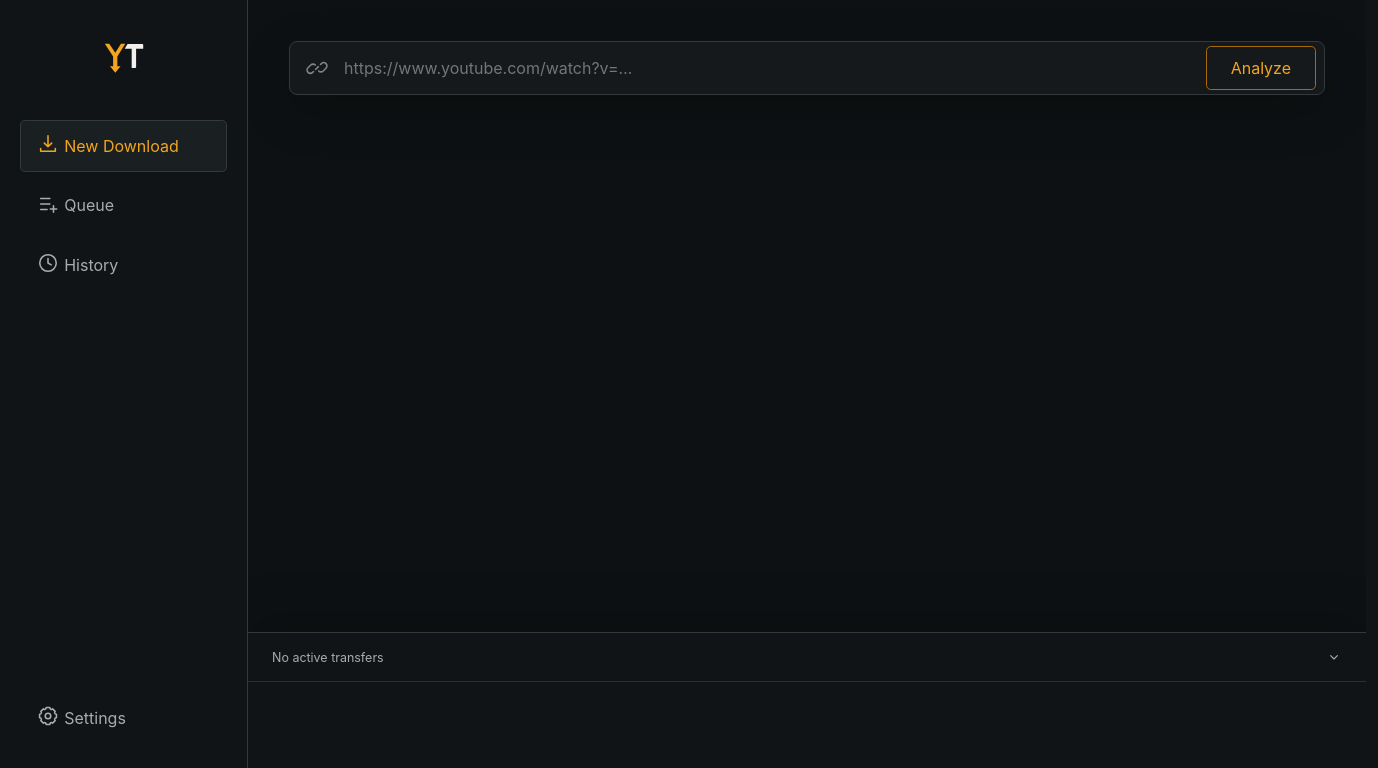
desktop workspace › leaves an in-flight analysis, returns to New Download, and ignores the stale result
The width and height of the screenshot is (1378, 768).
Type "https://www.youtube.com/watch?v=dQw4w9WgXcQ" into the field named "Video URL" at (767, 68), box [328,42,1206,94]
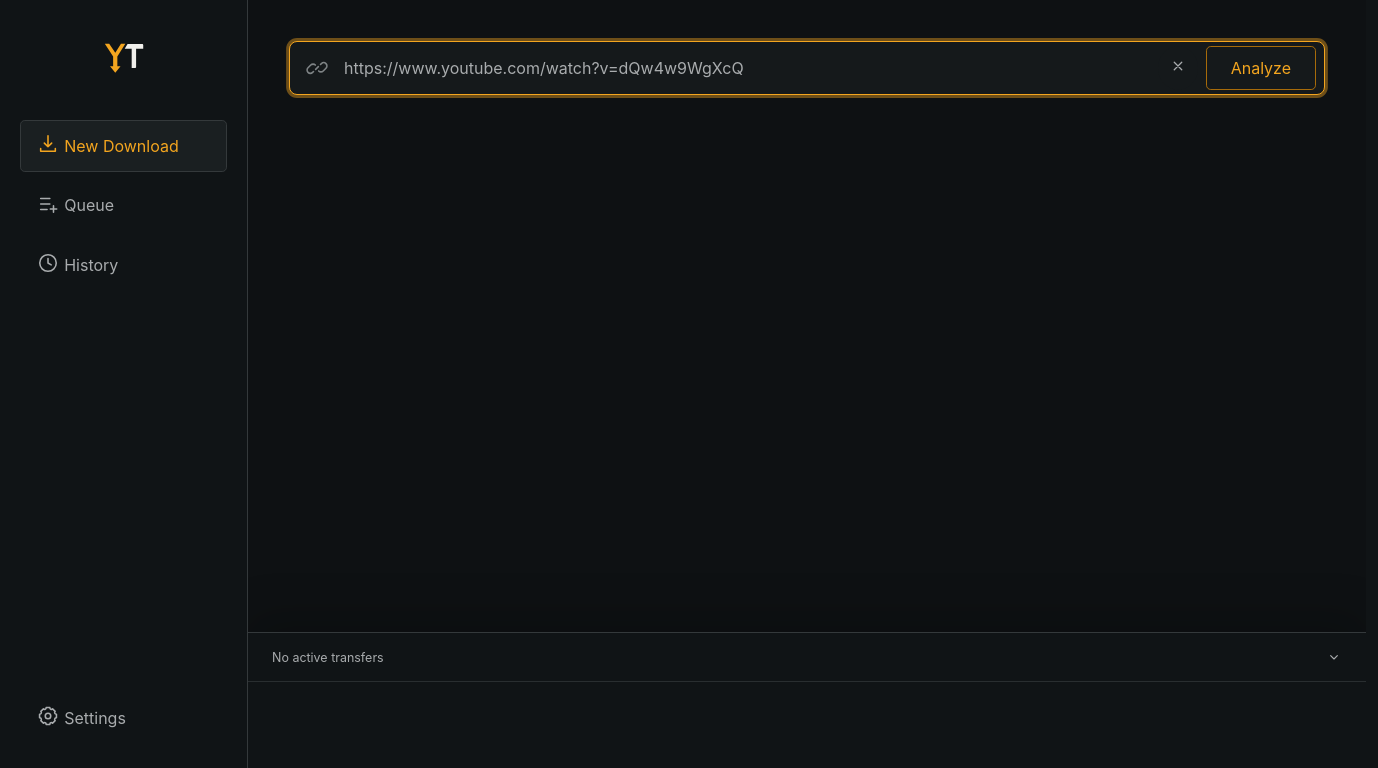
Click the button "Analyze" at (1261, 68), box [1206,46,1316,90]
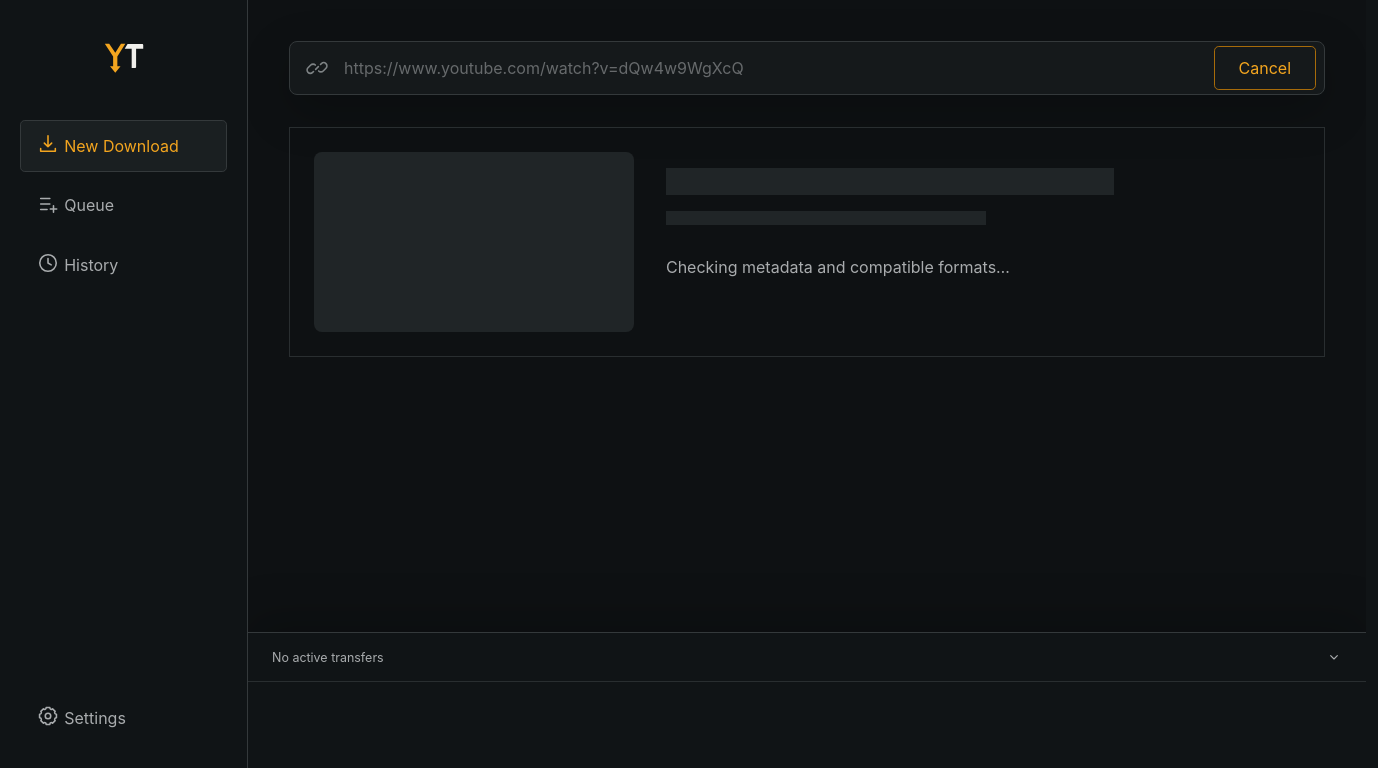
expect the button "Cancel" is shown: met, box [1214,46,1316,90]
Click the button "Queue" at (124, 205), box [20,180,227,231]
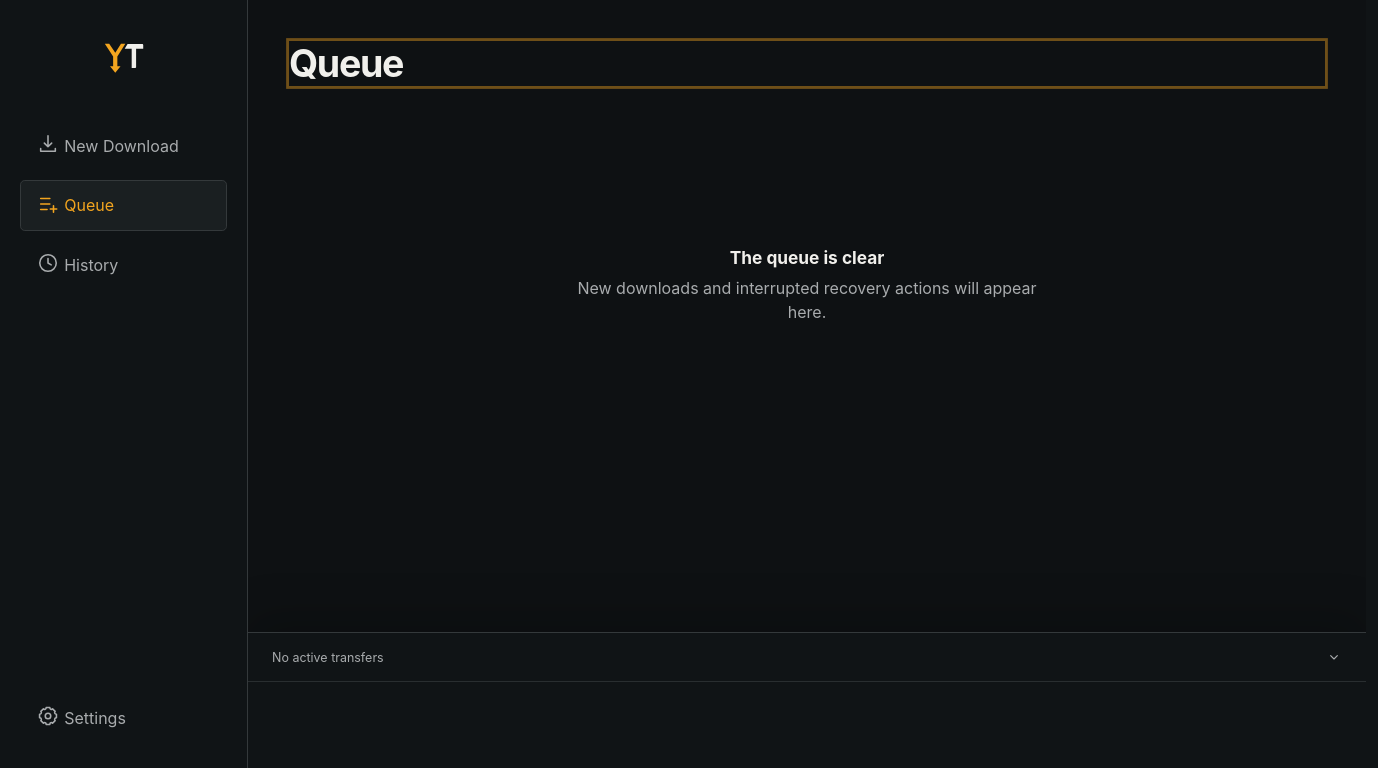
expect the heading "Queue" is shown: met, box [289,41,1325,86]
Click the button "New Download" at (124, 146), box [20,120,227,172]
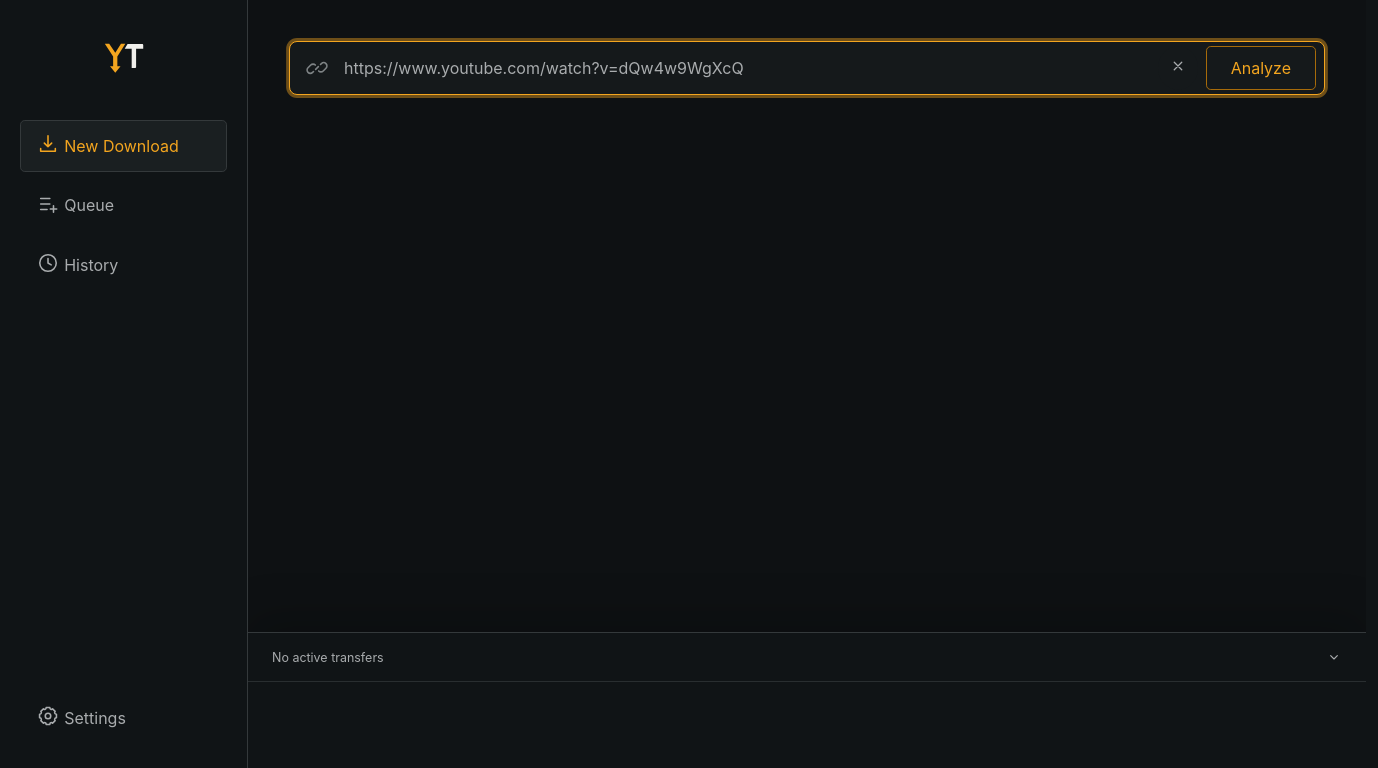
expect the field named "Video URL" holds "https://www.youtube.com/watch?v=dQw4w9WgXcQ": met, box [328,42,1158,94]
expect the button "Analyze" is shown: met, box [1206,46,1316,90]
